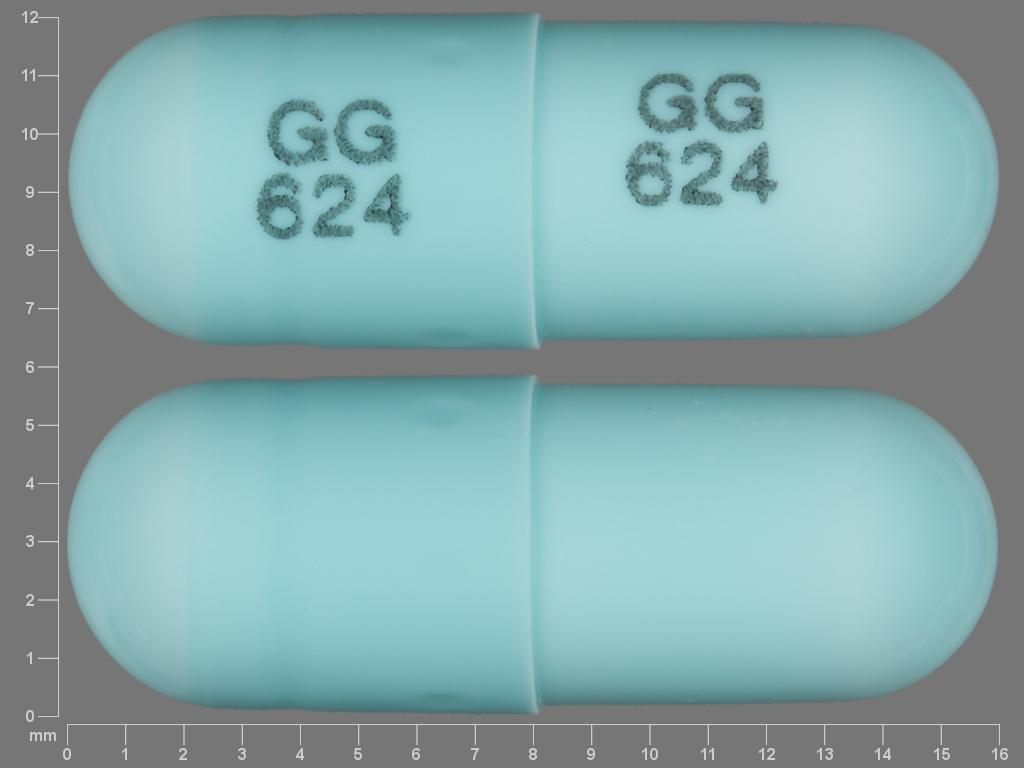Pill: (61, 363, 1006, 723), (63, 3, 1007, 359)
